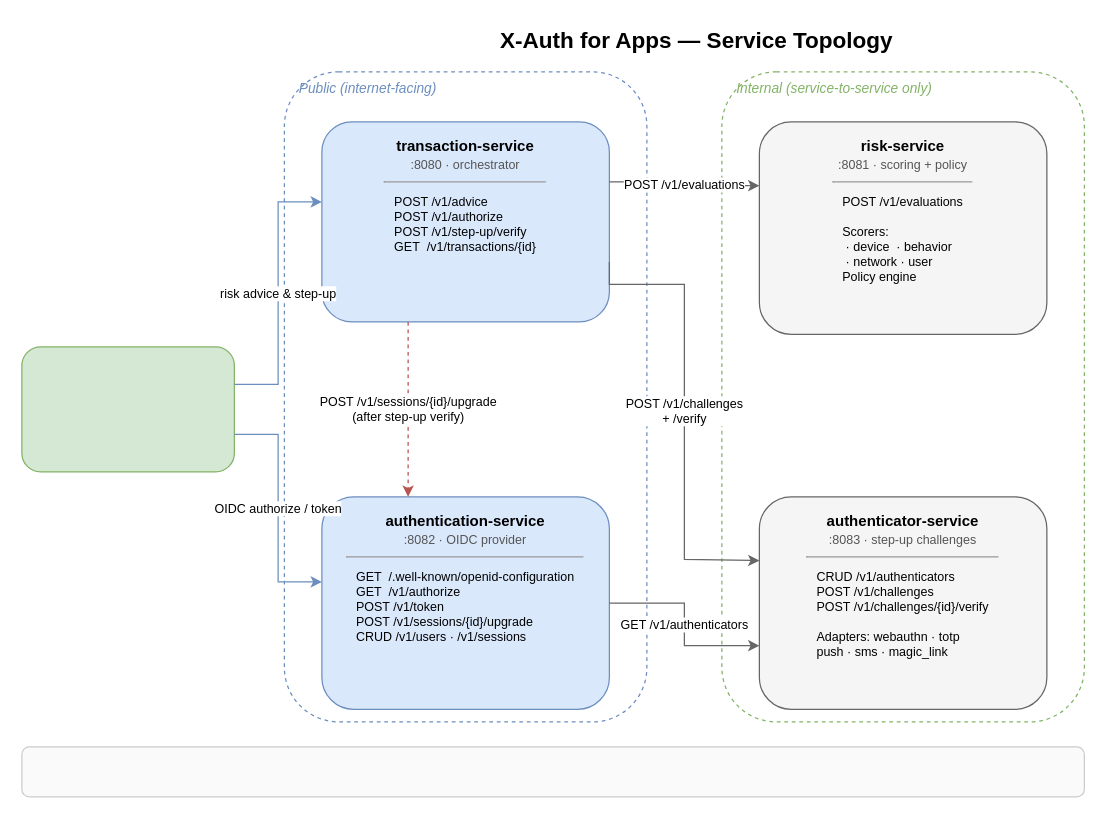
Image size: 1106x819. Some labels were removed from this diagram. The shapes that lost their labels are listed below. From the top down, each one's centre as x and y in pixels, then its label:
pixel 127 409: Client Application Web / mobile / API consumer
pixel 552 771: Legend ━━━ public HTTP ━━━ internal RPC ╴╴╴ async session upgrade
